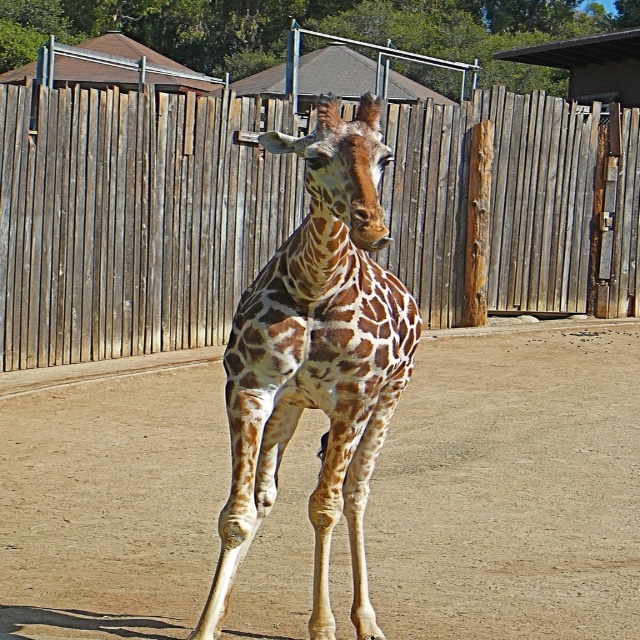Giraffe: (209, 79, 437, 640)
